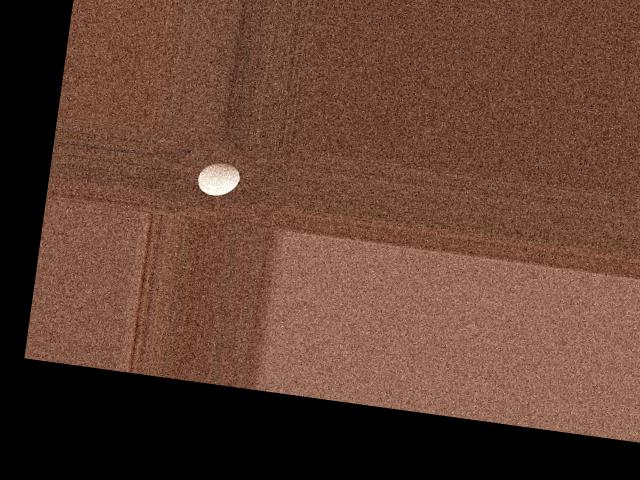egg: (196, 160, 242, 198)
